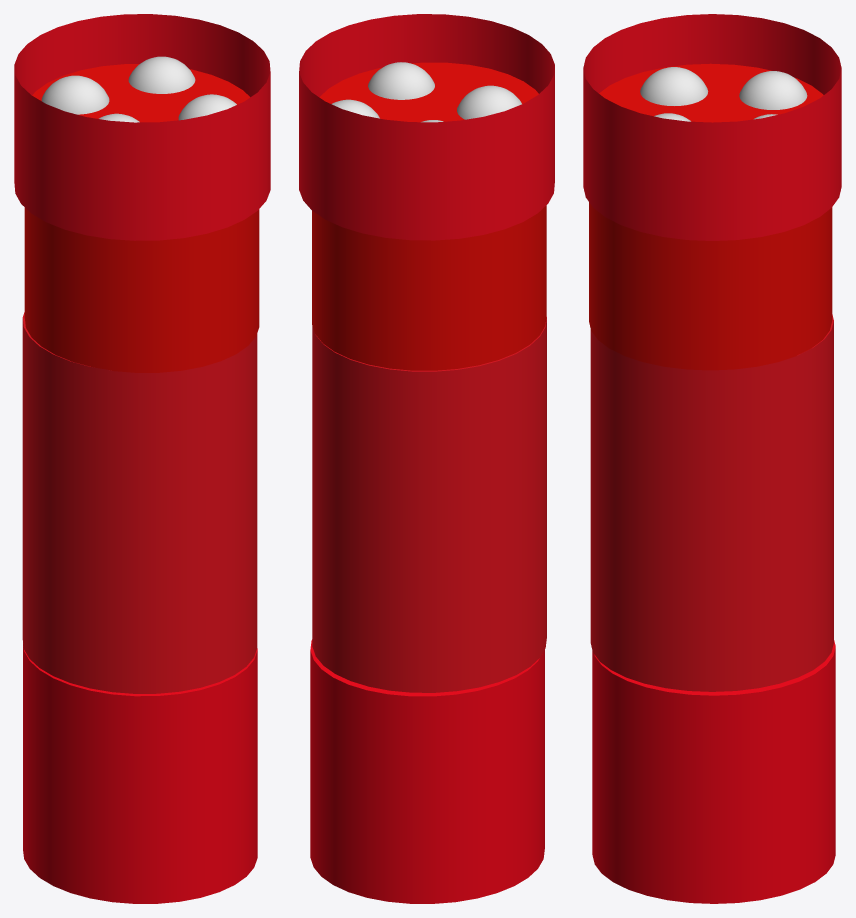
Rendered from fener (2).fbx.
3 views of the same model, side by side, from view 1: azimuth 30°, elevation 25°; view 2: azimuth 150°, elevation 25°; view 3: azimuth 270°, elevation 25° (orthographic).
Parts seen in each view (by area): view 1: Cylinder.001, Cylinder, Cylinder.003, Cylinder.002, Sphere.001, Sphere.003, Sphere.002; view 2: Cylinder.001, Cylinder, Cylinder.003, Cylinder.002, Sphere.002, Sphere; view 3: Cylinder.001, Cylinder, Cylinder.003, Cylinder.002, Sphere.001, Sphere.
Boxes of the visible parts, x1,y1,x2,y2 form: Cylinder.001: [22, 312, 257, 693]; Cylinder: [23, 643, 257, 903]; Cylinder.003: [14, 14, 270, 240]; Cylinder.002: [24, 64, 259, 372]; Sphere.001: [41, 75, 109, 114]; Sphere.003: [128, 56, 195, 93]; Sphere.002: [178, 94, 236, 120]; Cylinder.001: [312, 316, 546, 692]; Cylinder: [310, 639, 544, 903]; Cylinder.003: [299, 14, 554, 240]; Cylinder.002: [312, 62, 546, 370]; Sphere.002: [368, 62, 434, 99]; Sphere: [457, 85, 521, 119]; Cylinder.001: [590, 314, 833, 691]; Cylinder: [592, 640, 835, 903]; Cylinder.003: [583, 14, 841, 240]; Cylinder.002: [589, 63, 832, 370]; Sphere.001: [739, 71, 807, 109]; Sphere: [640, 67, 708, 105].
Size of the model in its own units: 71.09 by 240 by 71.52.
